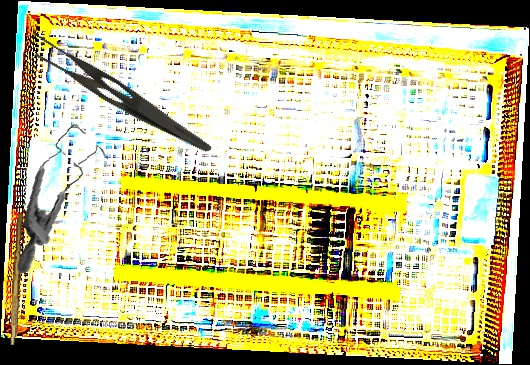Dressing Forceps: (19, 28, 224, 156)
Scalpel Handle: (10, 213, 24, 346)
Speculum: (2, 120, 119, 274)
